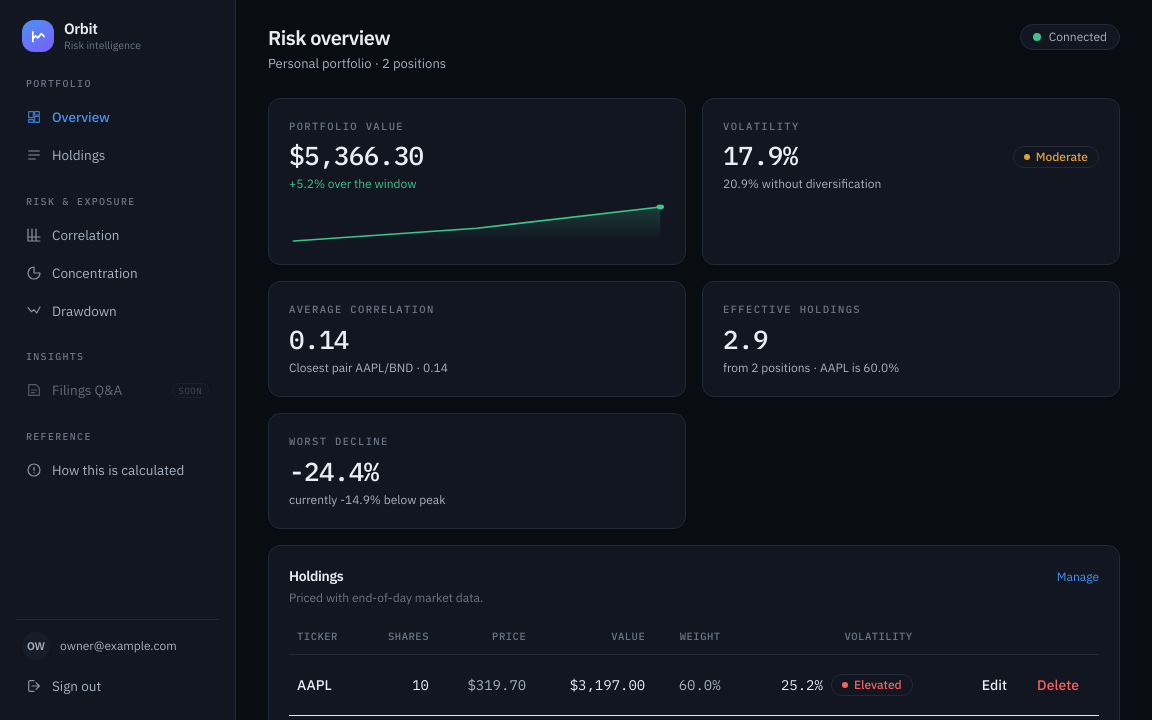
Scenario: Navigation (US-10) › navigates from the sidebar
expect the text "Portfolio value" is shown: met, box [289,118,404,132]
Click the link "Holdings".
click(66, 155)  # box [26,146,105,164]
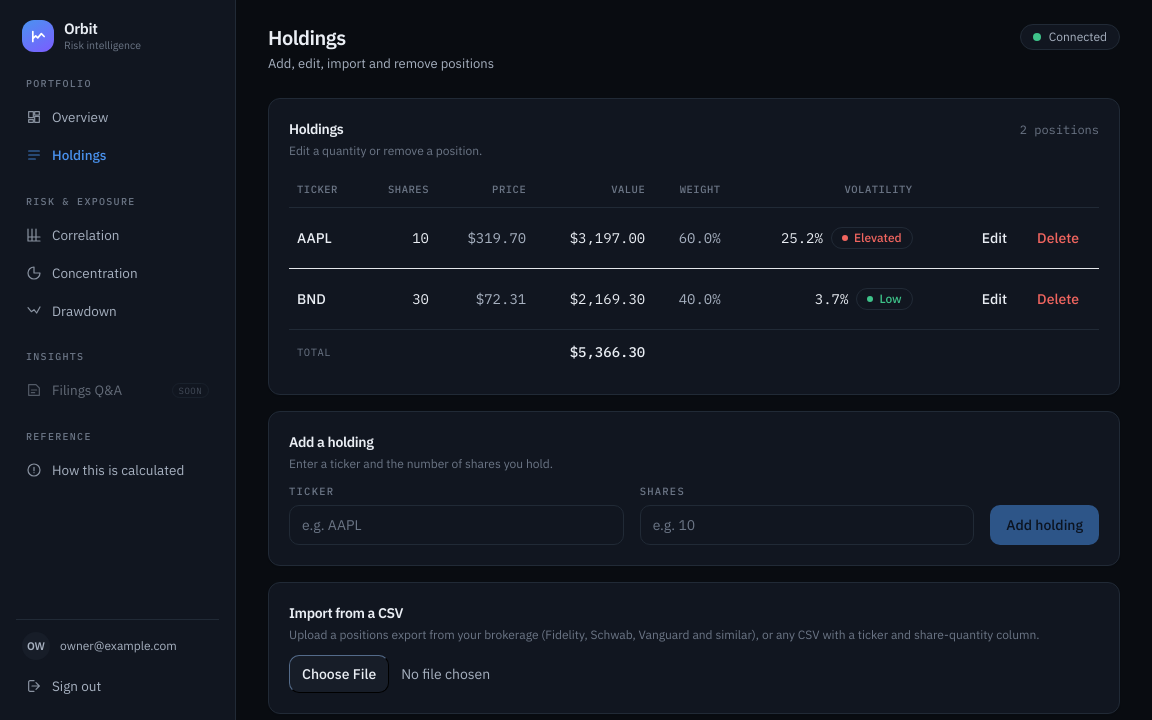
expect the heading "Import from a CSV" is shown: met, box [289,604,403,622]
